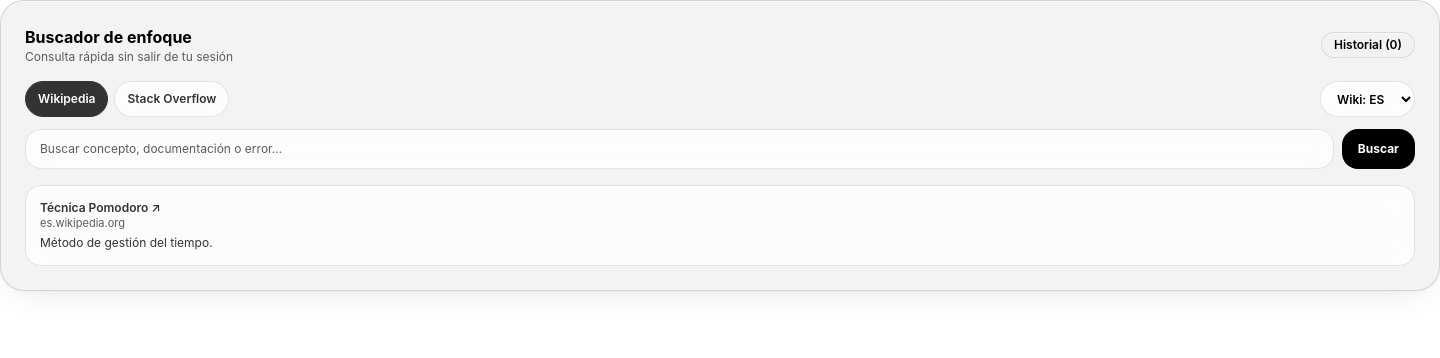
UI Components Security & Input Validation › blocks XSS in MiniSearchPanel and renders external links with safe rel attributes
This screenshot has width=1440, height=358.
Later steps or results of the test are not shown.
Type "<script>alert(1)</script>" into the search field named "Consulta de búsqueda rápida". click: (679, 149)
box: [25, 129, 1334, 169]
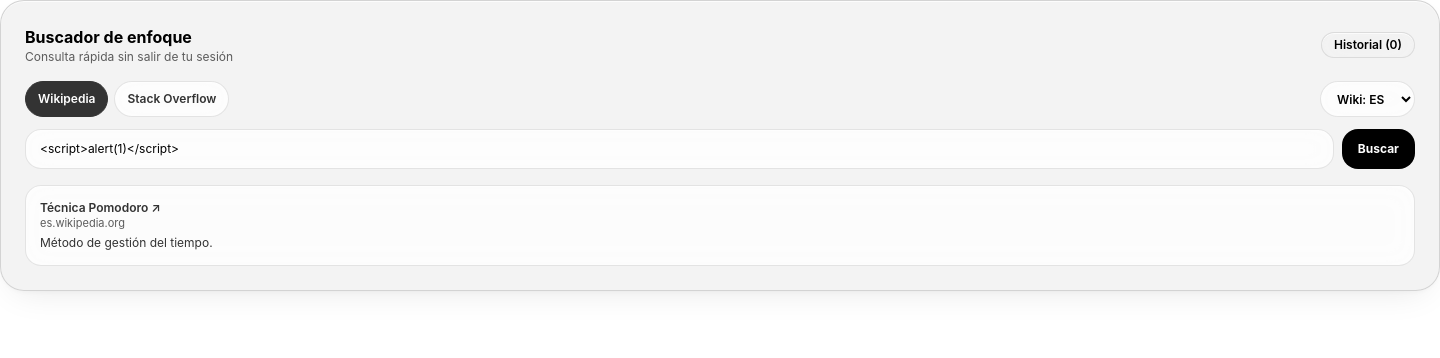
Click the button "Buscar". click: (1378, 149)
box: [1342, 129, 1415, 169]
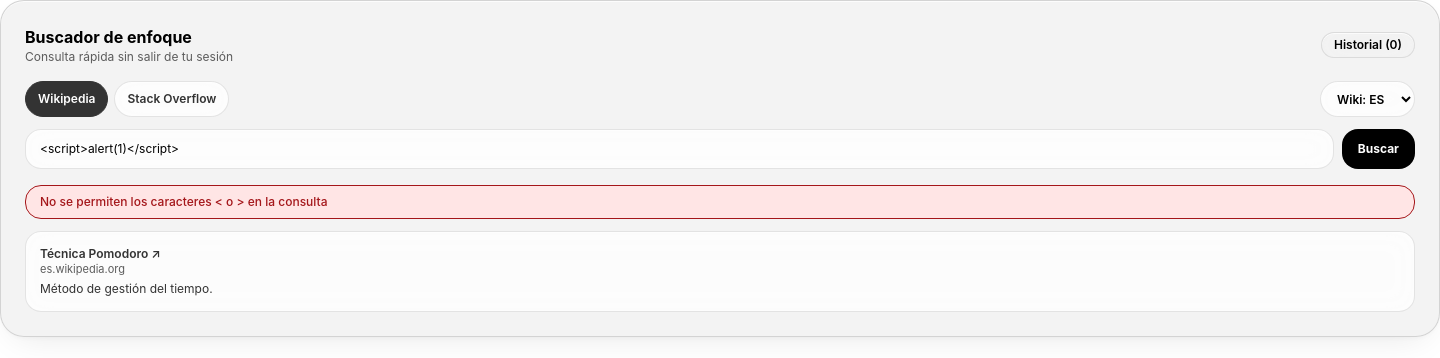
Now the message shows "No se permiten los caracteres < o >", box [40, 194, 328, 209]
